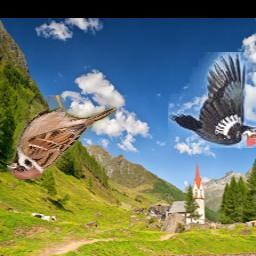Sparrow: (7, 95, 117, 179)
Woodpecker: (168, 52, 256, 148)
